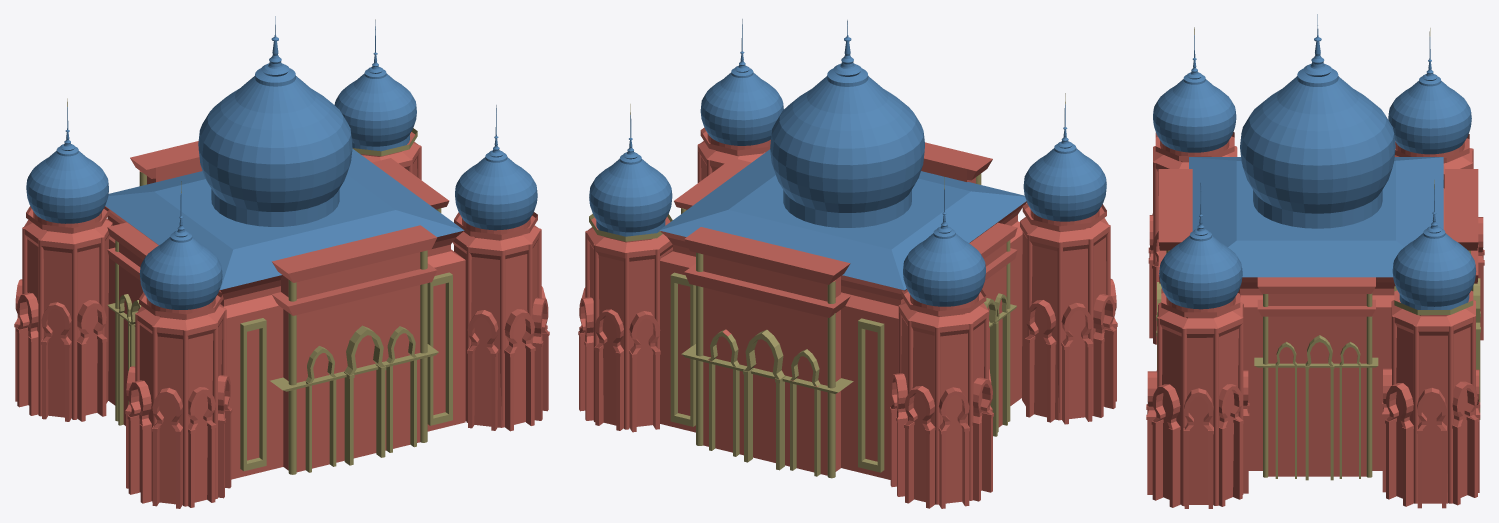
The model's file is pavilhao mourisco.glb.
The picture shows the model from 3 angles, left to right: view 1: azimuth 30°, elevation 25°; view 2: azimuth 150°, elevation 25°; view 3: azimuth 270°, elevation 25°; orthographic projection.
Visible parts, largest first — view 1: parede central, TORRE.003, Plane.006, TORRE.002, TORRE.004, DOMO CENTRAL, TORRE.001, Plane.008, Cube.006, Plane.011, Plane.010, Cylinder (+8 smaller); view 2: Cylinder, parede central, TORRE.002, TORRE.003, TORRE.001, DOMO CENTRAL, TORRE.004, Plane.008, Plane.003, Plane.002, Plane.006, Plane.004 (+3 smaller); view 3: TORRE.004, TORRE.001, parede central, DOMO CENTRAL, Plane.004, TORRE.003, TORRE.002, Cylinder, Plane.006, Cube.003, Cylinder.003, Cylinder.002 (+3 smaller).
Boxes of the visible parts, x1,y1,x2,y2 form: parede central: [105, 149, 465, 479]; TORRE.003: [125, 181, 232, 508]; Plane.006: [272, 225, 437, 472]; TORRE.002: [14, 98, 112, 421]; TORRE.004: [452, 105, 549, 431]; DOMO CENTRAL: [198, 16, 352, 226]; TORRE.001: [334, 19, 421, 179]; Plane.008: [107, 222, 158, 425]; Cube.006: [344, 325, 386, 465]; Plane.011: [240, 318, 266, 471]; Plane.010: [427, 272, 452, 425]; Cylinder: [130, 141, 202, 185]; Cylinder: [681, 227, 853, 478]; parede central: [659, 149, 1026, 479]; TORRE.002: [889, 176, 993, 508]; TORRE.003: [1020, 93, 1117, 424]; TORRE.001: [578, 104, 672, 432]; DOMO CENTRAL: [770, 20, 924, 227]; TORRE.004: [697, 19, 783, 182]; Plane.008: [969, 222, 1017, 427]; Plane.003: [858, 318, 884, 472]; Plane.002: [670, 272, 695, 426]; Plane.006: [921, 142, 992, 183]; Plane.004: [674, 158, 751, 209]; TORRE.004: [1146, 183, 1249, 508]; TORRE.001: [1382, 180, 1480, 508]; parede central: [1189, 157, 1444, 470]; DOMO CENTRAL: [1240, 14, 1395, 228]; Plane.004: [1257, 277, 1375, 476]; TORRE.003: [1148, 27, 1237, 344]; TORRE.002: [1388, 28, 1484, 340]; Cylinder: [1444, 169, 1480, 419]; Plane.006: [1158, 169, 1192, 283]; Cube.003: [1305, 335, 1334, 480]; Cylinder.003: [1366, 293, 1372, 477]; Cylinder.002: [1263, 294, 1268, 477].
Bounding box in the file's own units: 6.43 × 5.93 × 4.6.
2 materials, 2 textured.
